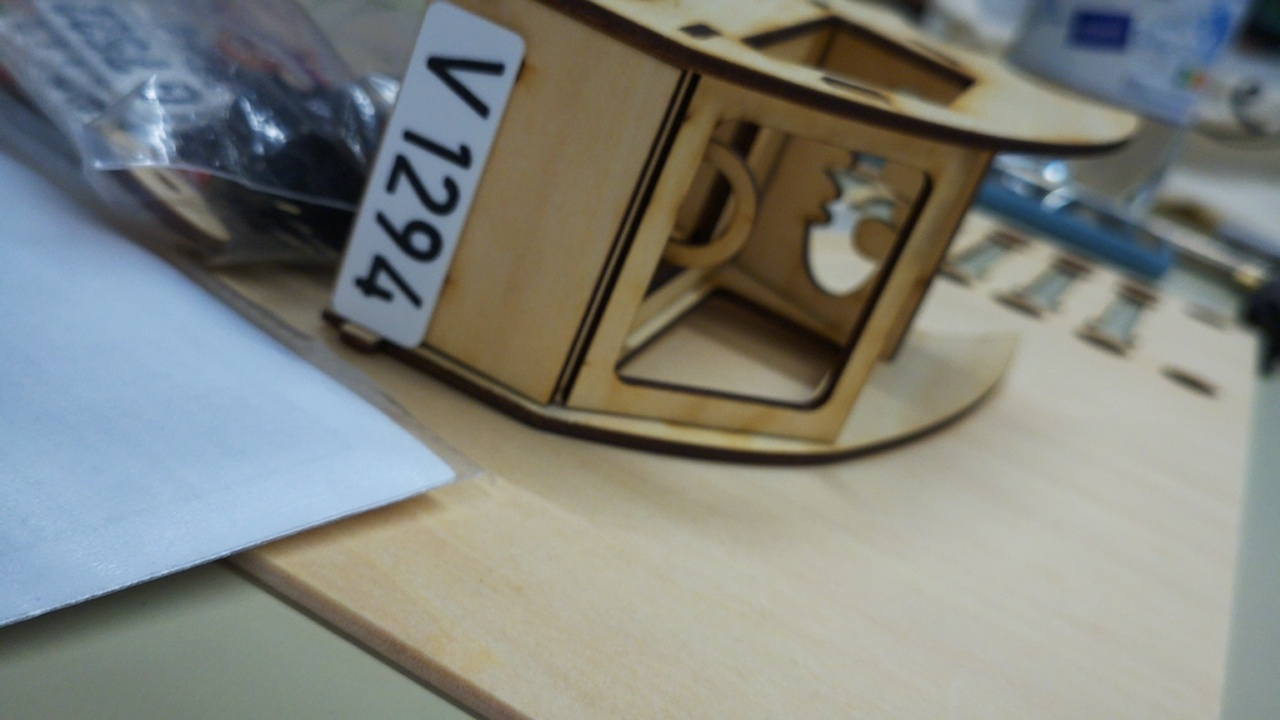license_plate: (326, 0, 532, 353)
